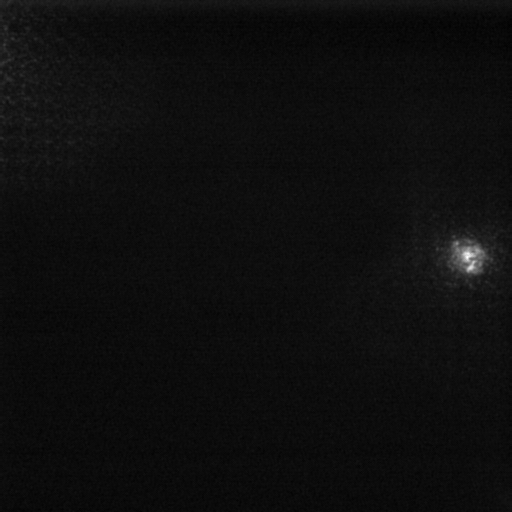lam1: (448, 239, 488, 274)
